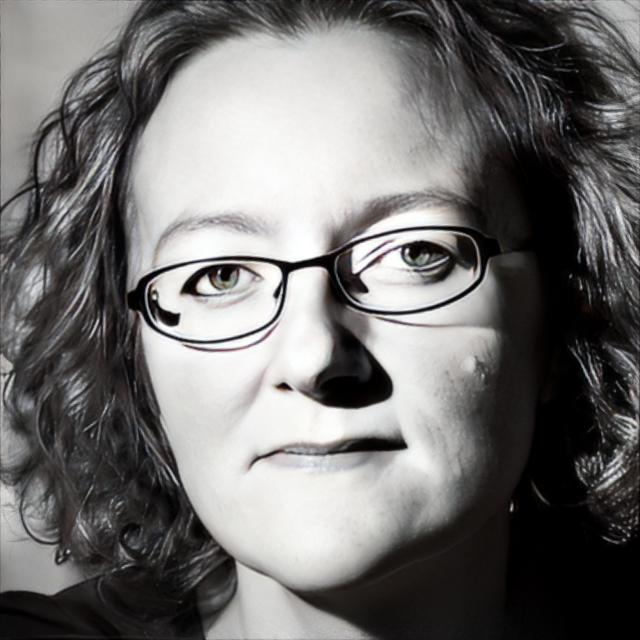neutral: (127, 23, 546, 598)
